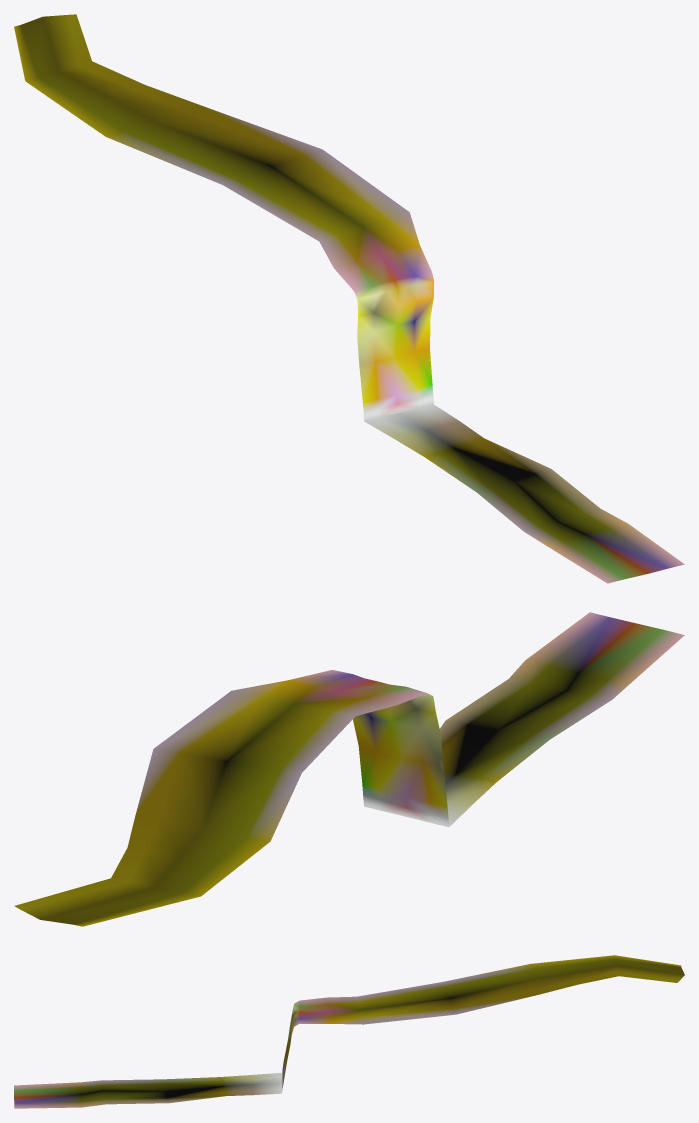
The picture shows the model from 3 angles, top to bottom: view 1: azimuth 30°, elevation 25°; view 2: azimuth 150°, elevation 25°; view 3: azimuth 270°, elevation 25°; orthographic projection. The views are drawn at different scales.
Visible parts, largest first — view 1: G:\FFXIV-MapTools\exports\k5t1\bg\ex4\03_kld_k5\twn\k5t1\bgp; view 2: G:\FFXIV-MapTools\exports\k5t1\bg\ex4\03_kld_k5\twn\k5t1\bgp; view 3: G:\FFXIV-MapTools\exports\k5t1\bg\ex4\03_kld_k5\twn\k5t1\bgp.
Part boxes in pixels (x1=…): G:\FFXIV-MapTools\exports\k5t1\bg\ex4\03_kld_k5\twn\k5t1\bgp: x1=14, y1=14, x2=684, y2=583; G:\FFXIV-MapTools\exports\k5t1\bg\ex4\03_kld_k5\twn\k5t1\bgp: x1=14, y1=612, x2=684, y2=926; G:\FFXIV-MapTools\exports\k5t1\bg\ex4\03_kld_k5\twn\k5t1\bgp: x1=14, y1=955, x2=684, y2=1108.
Bounding box in the file's own units: 46.26 × 42.14 × 244.
